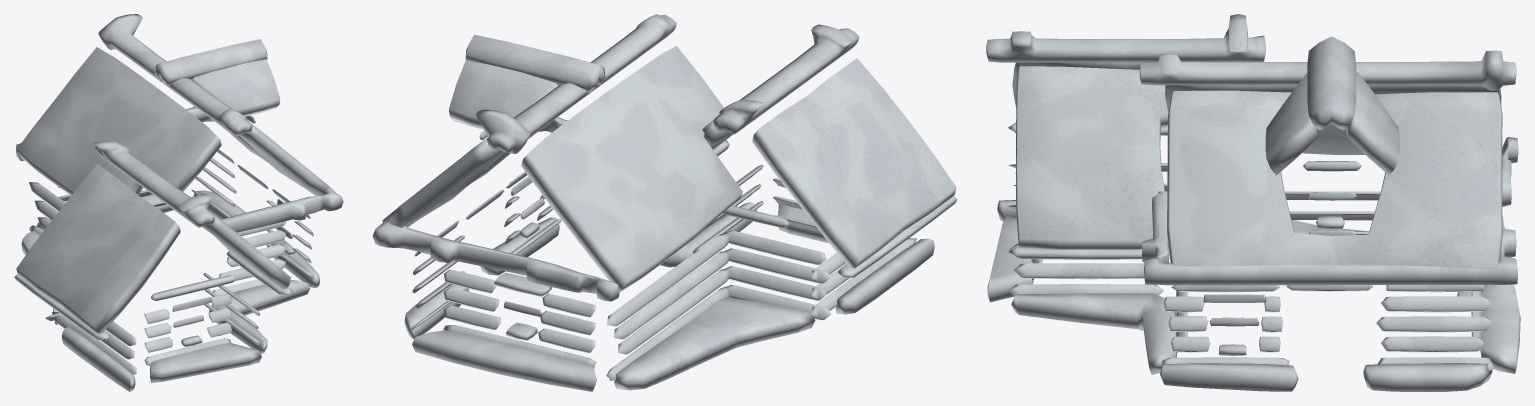
The model's file is House_Large_Snow.fbx.
3 views of the same model, side by side, from view 1: azimuth 30°, elevation 25°; view 2: azimuth 150°, elevation 25°; view 3: azimuth 270°, elevation 25° (orthographic). The views are drawn at different scales.
Visible parts, largest first — view 1: House_Large_Snow_LOD0; view 2: House_Large_Snow_LOD0; view 3: House_Large_Snow_LOD0.
Boxes of the visible parts, left/top/right/bottom form: House_Large_Snow_LOD0: left=14, top=14, right=343, bottom=391; House_Large_Snow_LOD0: left=372, top=14, right=957, bottom=391; House_Large_Snow_LOD0: left=986, top=14, right=1520, bottom=391.
Size of what is drawn, in the model's own units: 1042 by 712 by 1179.
